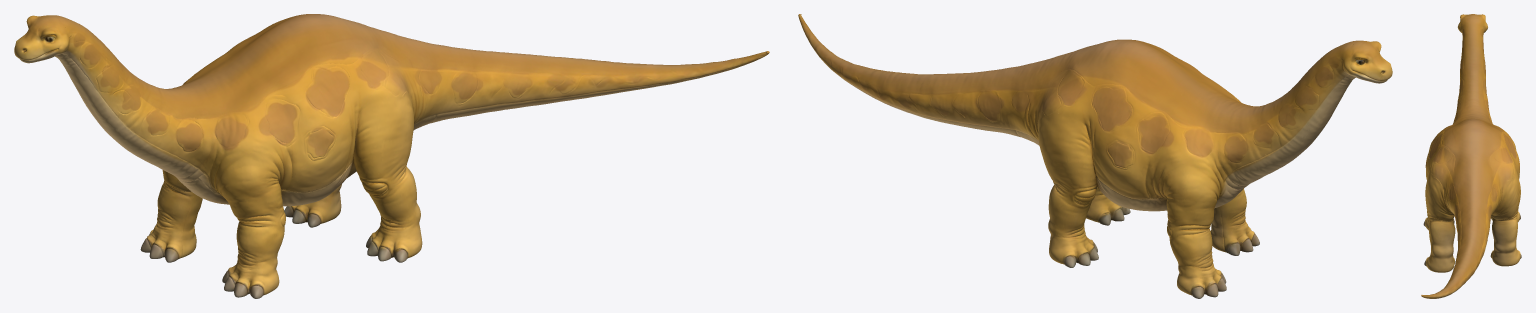
The model's file is brontosaurus-tripo.glb.
3 views of the same model, side by side, from view 1: azimuth 30°, elevation 25°; view 2: azimuth 150°, elevation 25°; view 3: azimuth 270°, elevation 25° (orthographic). The views are drawn at different scales.
Visible parts, largest first — view 1: tripo_part_0, tripo_part_1, tripo_part_2, tripo_part_3, tripo_part_5, tripo_part_6, tripo_part_7, tripo_part_8, tripo_part_4, tripo_part_11, tripo_part_12; view 2: tripo_part_0, tripo_part_1, tripo_part_2, tripo_part_4, tripo_part_6, tripo_part_5, tripo_part_7, tripo_part_13, tripo_part_3, tripo_part_12, tripo_part_9; view 3: tripo_part_1, tripo_part_0, tripo_part_2, tripo_part_3, tripo_part_4, tripo_part_7, tripo_part_8, tripo_part_13.
Part boxes in pixels (box(x1,y1,x2,y2)): tripo_part_0: box(177, 14, 389, 206); tripo_part_1: box(379, 29, 769, 129); tripo_part_2: box(54, 15, 211, 181); tripo_part_3: box(353, 87, 422, 257); tripo_part_5: box(216, 149, 285, 294); tripo_part_6: box(147, 170, 202, 257); tripo_part_7: box(14, 15, 71, 63); tripo_part_8: box(305, 64, 349, 117); tripo_part_4: box(291, 184, 341, 223); tripo_part_11: box(222, 270, 265, 298); tripo_part_12: box(140, 234, 181, 262); tripo_part_0: box(1057, 39, 1247, 211); tripo_part_1: box(798, 14, 1089, 145); tripo_part_2: box(1217, 40, 1357, 189); tripo_part_4: box(1037, 113, 1096, 264); tripo_part_6: box(1159, 161, 1221, 294); tripo_part_5: box(1210, 189, 1255, 253); tripo_part_7: box(1340, 40, 1392, 83); tripo_part_13: box(1092, 85, 1132, 131); tripo_part_3: box(1086, 187, 1122, 222); tripo_part_12: box(1189, 272, 1226, 298); tripo_part_9: box(1062, 243, 1098, 267); tripo_part_1: box(1421, 156, 1515, 298); tripo_part_0: box(1425, 112, 1519, 216); tripo_part_2: box(1453, 17, 1492, 123); tripo_part_3: box(1425, 162, 1455, 272); tripo_part_4: box(1491, 167, 1520, 266); tripo_part_7: box(1457, 14, 1487, 32); tripo_part_8: box(1429, 132, 1443, 158); tripo_part_13: box(1502, 132, 1516, 157).
Bounding box in the file's own units: 0.9805 × 0.3843 × 0.2129.
1 material, 1 textured.
